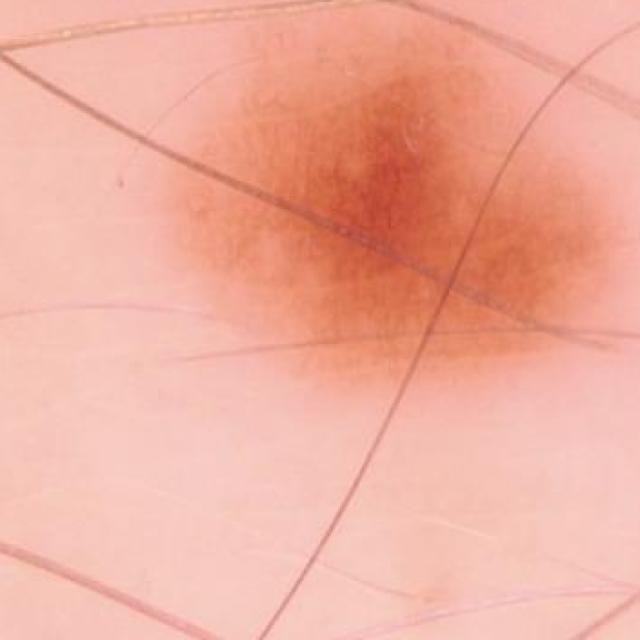NV: (127, 13, 640, 420)
